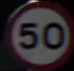Speed limit: (7, 0, 67, 62)
